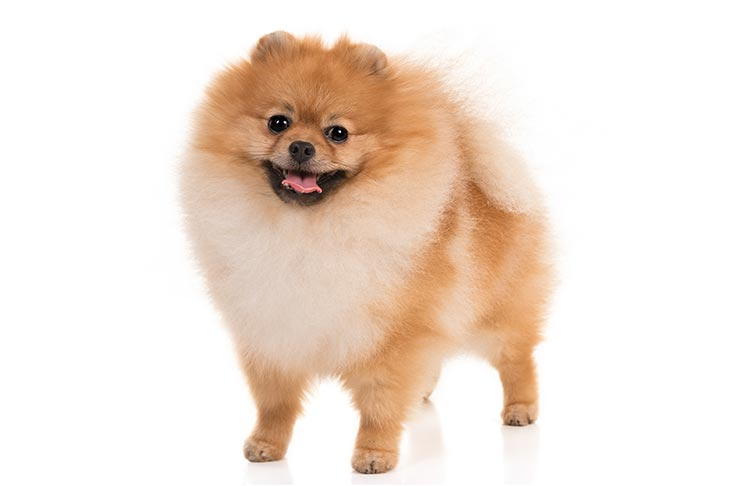pomeranian: (177, 18, 572, 479)
